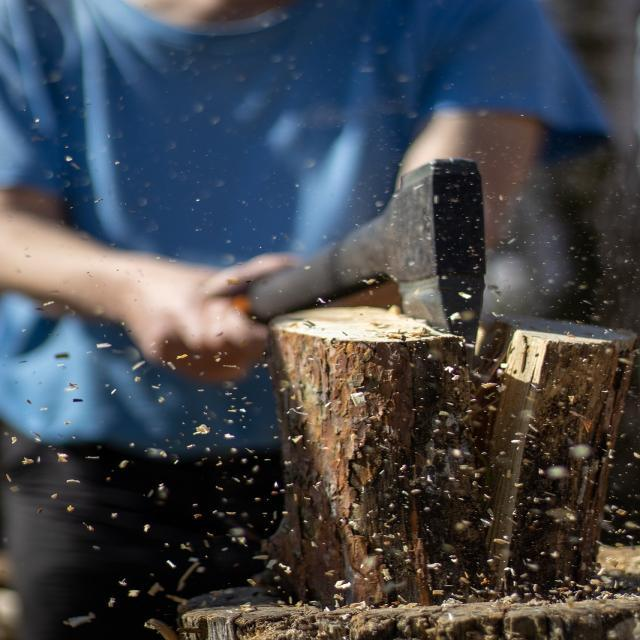Axe: (249, 160, 485, 341)
